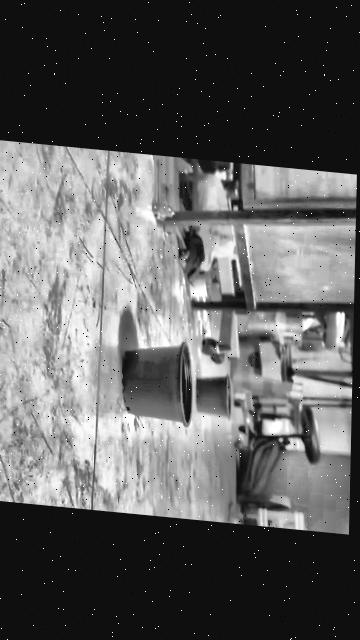pot: (121, 336, 194, 426), (195, 373, 233, 418)
